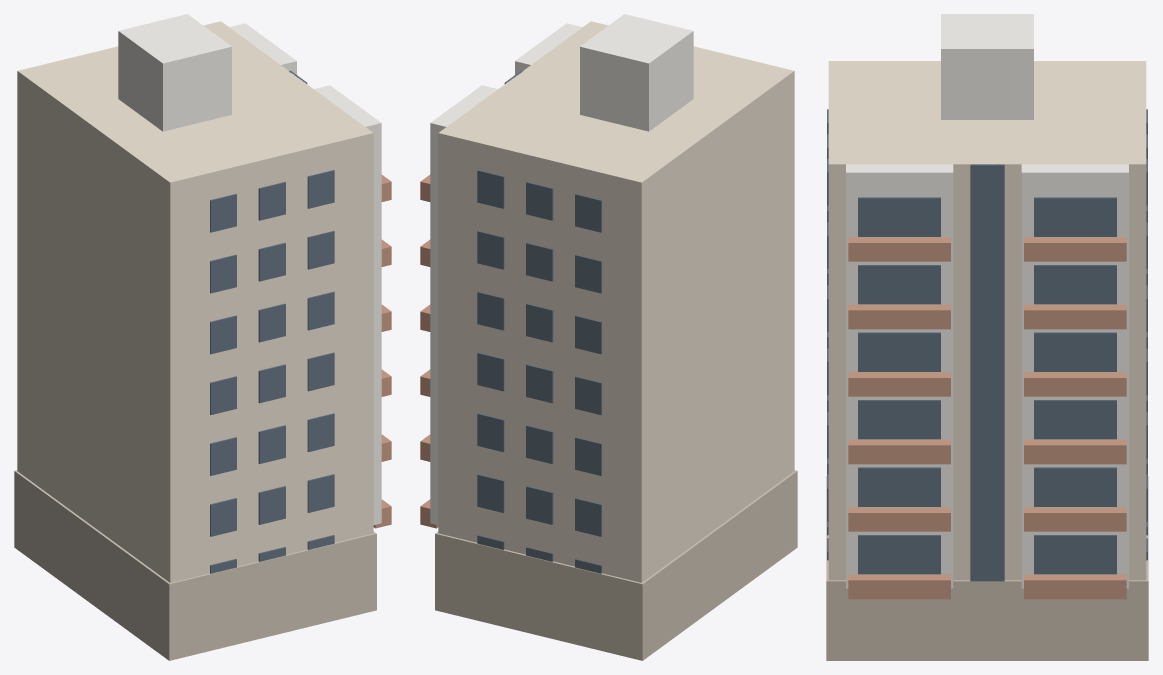
The model's file is rambla_building_9.glb.
3 renders of one model, left to right at view 1: azimuth 30°, elevation 25°; view 2: azimuth 150°, elevation 25°; view 3: azimuth 270°, elevation 25°, orthographic. The views are drawn at different scales.
Visible parts, largest first — view 1: RamblaBuilding_9; view 2: RamblaBuilding_9; view 3: RamblaBuilding_9.
Boxes of the visible parts, left/top/right/bottom form: RamblaBuilding_9: left=14, top=14, right=391, bottom=660; RamblaBuilding_9: left=420, top=14, right=797, bottom=660; RamblaBuilding_9: left=826, top=14, right=1148, bottom=660.
Bounding box in the file's own units: 11.45 × 25.6 × 13.2.
